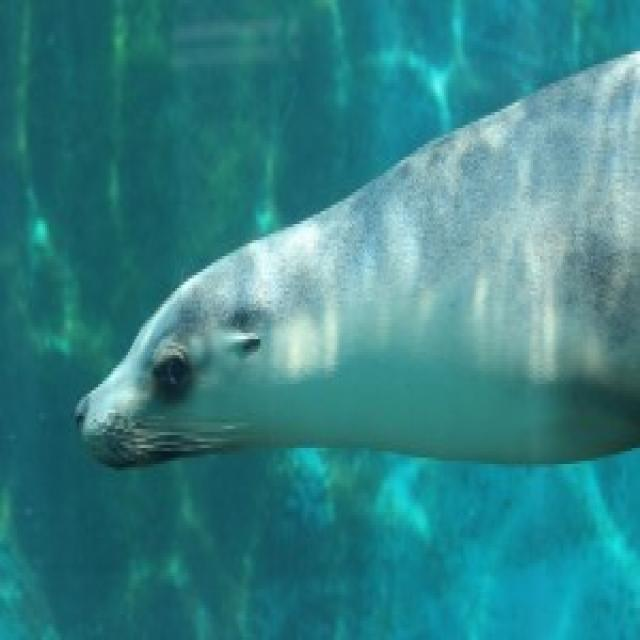Seal: (73, 19, 633, 502)
